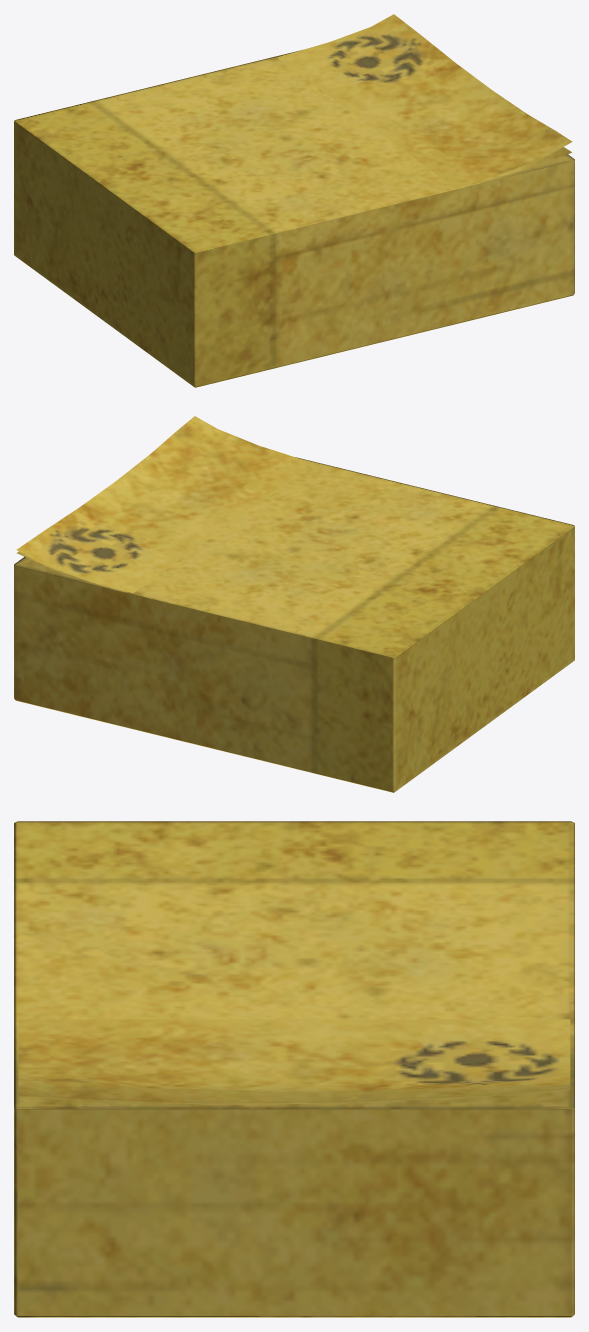
Rendered from postitblock.dae.
The picture shows the model from 3 angles, top to bottom: view 1: azimuth 30°, elevation 25°; view 2: azimuth 150°, elevation 25°; view 3: azimuth 270°, elevation 25°; orthographic projection. The views are drawn at different scales.
Parts seen in each view (by area): view 1: polySurface1; view 2: polySurface1; view 3: polySurface1.
Part boxes in pixels (x1,y1,x2,y2): polySurface1: [14, 14, 574, 387]; polySurface1: [14, 416, 574, 792]; polySurface1: [14, 821, 574, 1317].
Size of the model in its own units: 0.2 by 0.077 by 0.1647.
